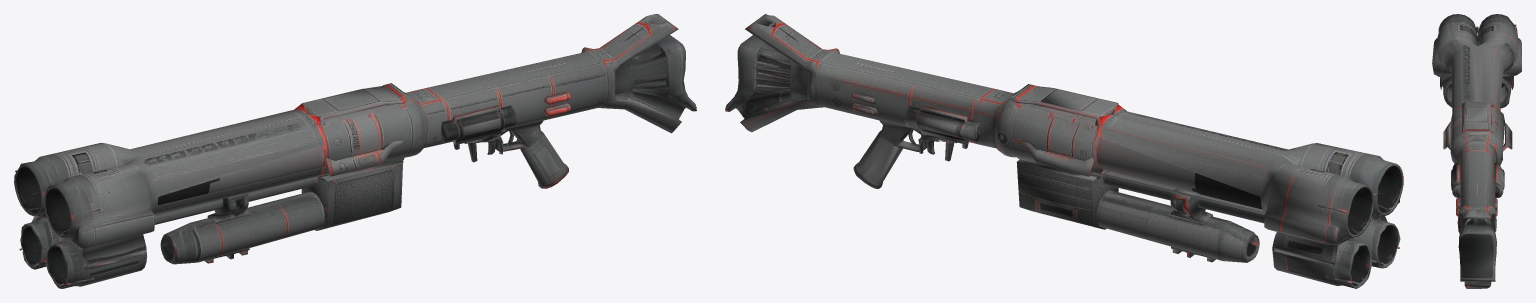
Rendered from w_rocket.glb.
3 renders of one model, left to right at view 1: azimuth 30°, elevation 25°; view 2: azimuth 150°, elevation 25°; view 3: azimuth 270°, elevation 25°, orthographic. The views are drawn at different scales.
Bounding box in the file's own units: 0.9502 × 0.1987 × 0.1699.
Materials: 1 (1 with a texture image).
